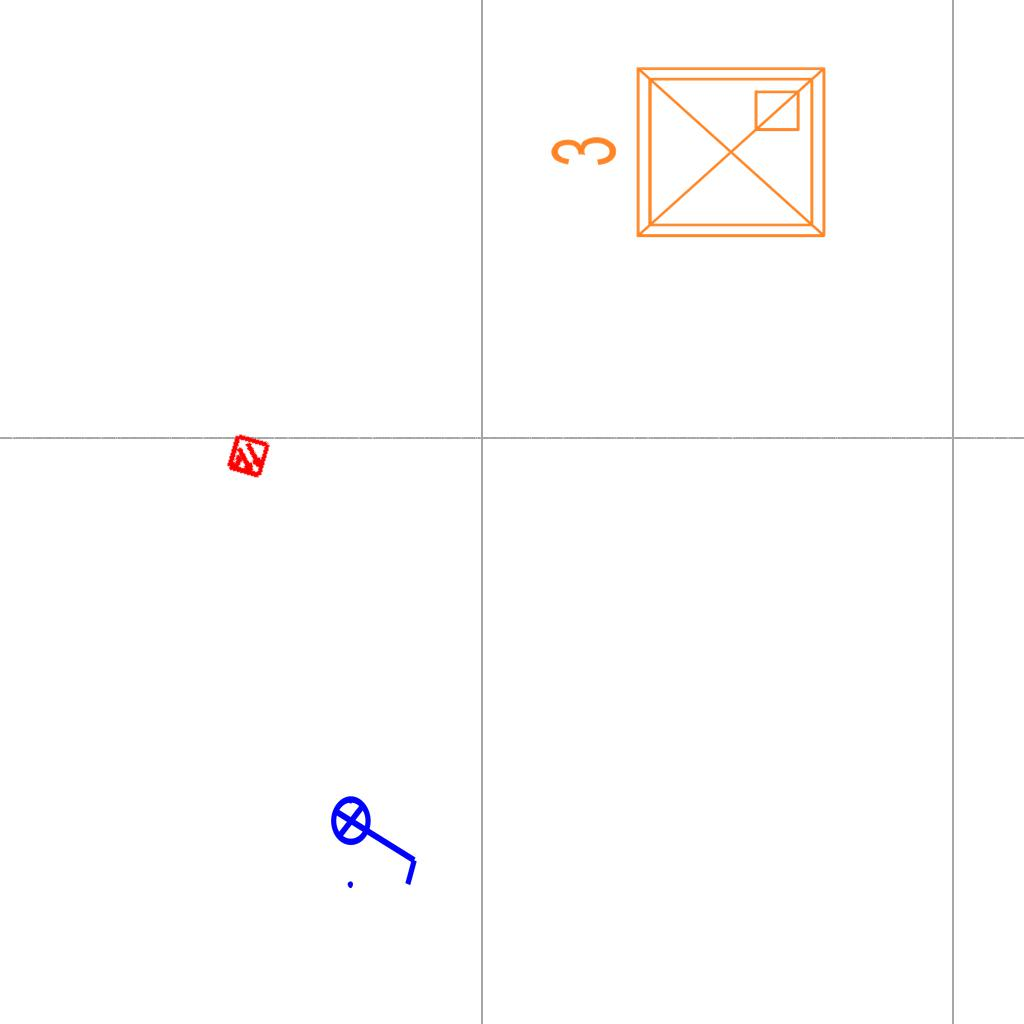Ausschalter_beleuchtet: (329, 782, 425, 894)
Einbaudownlights_LED_Konferenzraeume: (540, 52, 840, 260)
OT_Multisensormelder_(Kombination_RMO_WMD): (213, 422, 283, 492)
